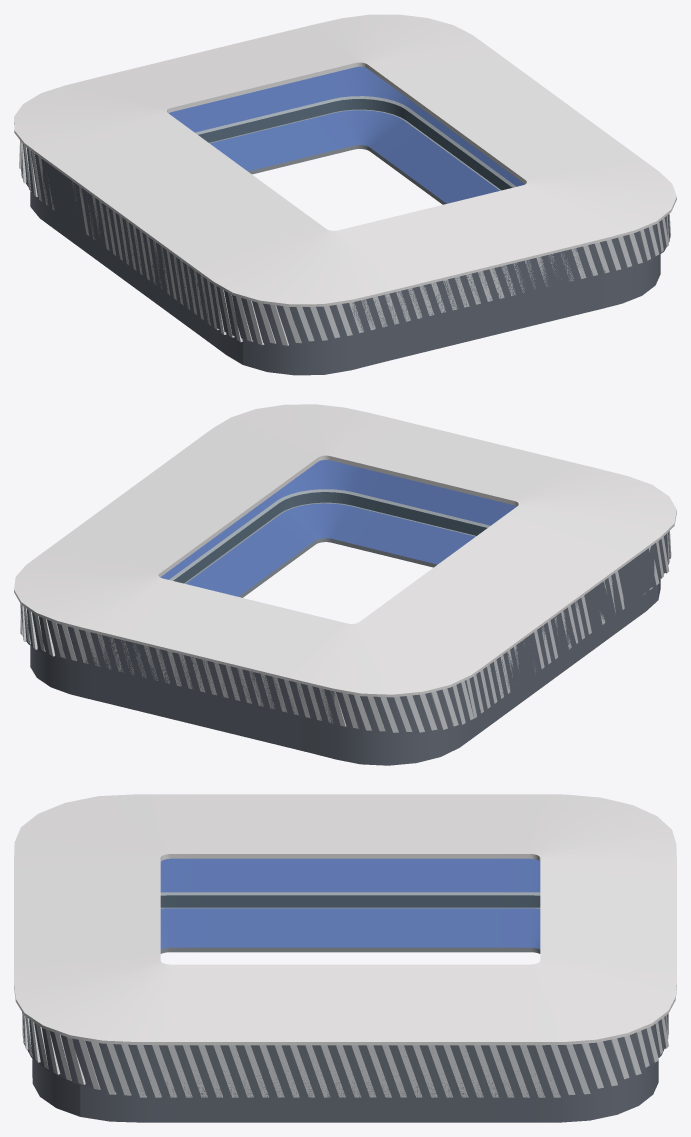
File: cin-tql-stadium.glb
3 views of the same model, one above another, from view 1: azimuth 30°, elevation 25°; view 2: azimuth 150°, elevation 25°; view 3: azimuth 270°, elevation 25° (orthographic). The views are drawn at different scales.
Parts seen in each view (by area): view 1: TQL Stadium; view 2: TQL Stadium; view 3: TQL Stadium.
Part boxes in pixels (x1,y1,x2,y2): TQL Stadium: (14,14,676,375); TQL Stadium: (14,404,676,765); TQL Stadium: (14,794,676,1122).
Bounding box in the file's own units: 176 × 33 × 199.
